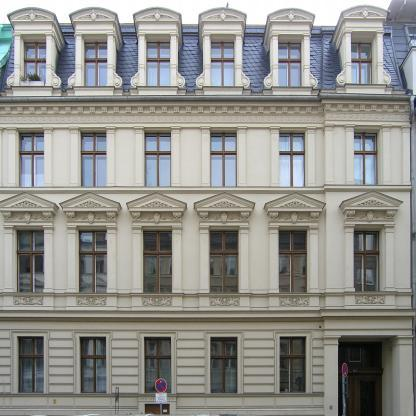Building Outline: (0, 1, 414, 416)
Cornice: (338, 189, 405, 226), (262, 191, 327, 226), (58, 191, 123, 225), (125, 191, 188, 225), (193, 191, 256, 225), (0, 190, 60, 225), (8, 9, 55, 35), (269, 9, 314, 36), (134, 9, 180, 35), (343, 6, 388, 32), (71, 9, 116, 35), (200, 9, 245, 35)
Door: (338, 335, 399, 416), (338, 369, 382, 416)
Facade: (0, 6, 414, 416)
Floor: (1, 216, 413, 310), (1, 118, 413, 203)
Floor Slab: (1, 106, 413, 118), (1, 310, 413, 322), (1, 204, 413, 216)
Ground Floor: (1, 322, 413, 416)
Molding: (0, 102, 411, 124), (0, 309, 416, 321), (0, 184, 412, 194)
Roof: (0, 1, 408, 97)
Sill: (345, 83, 388, 94), (71, 86, 114, 96), (10, 86, 52, 96), (136, 86, 179, 95), (202, 86, 244, 95), (271, 86, 313, 95), (65, 292, 118, 296), (2, 292, 54, 296), (343, 292, 398, 295), (197, 293, 252, 296), (266, 293, 321, 296), (130, 293, 184, 296)
Top Floor: (0, 25, 405, 106)
Window: (354, 224, 386, 292), (208, 225, 240, 293), (12, 225, 44, 292), (76, 225, 107, 293), (141, 225, 172, 293), (279, 225, 310, 293), (16, 230, 44, 292), (79, 231, 107, 293), (144, 231, 172, 293), (210, 231, 238, 293), (279, 231, 307, 293), (15, 130, 44, 187), (279, 337, 307, 394), (210, 337, 238, 394), (78, 130, 106, 186), (354, 231, 380, 291), (79, 337, 106, 394), (144, 337, 171, 394), (17, 336, 44, 393), (354, 128, 381, 185), (144, 129, 171, 186), (211, 129, 238, 186), (279, 129, 306, 186), (211, 133, 238, 186), (144, 133, 171, 186), (209, 33, 236, 86), (279, 133, 305, 186), (81, 133, 107, 186), (82, 33, 108, 86), (145, 33, 171, 86), (351, 31, 377, 83), (20, 34, 46, 86), (278, 34, 304, 86), (19, 133, 44, 187), (354, 132, 377, 185), (338, 342, 382, 368), (147, 41, 170, 86), (84, 41, 107, 86), (278, 42, 301, 86), (211, 42, 234, 86), (24, 42, 46, 86), (351, 42, 372, 84)
